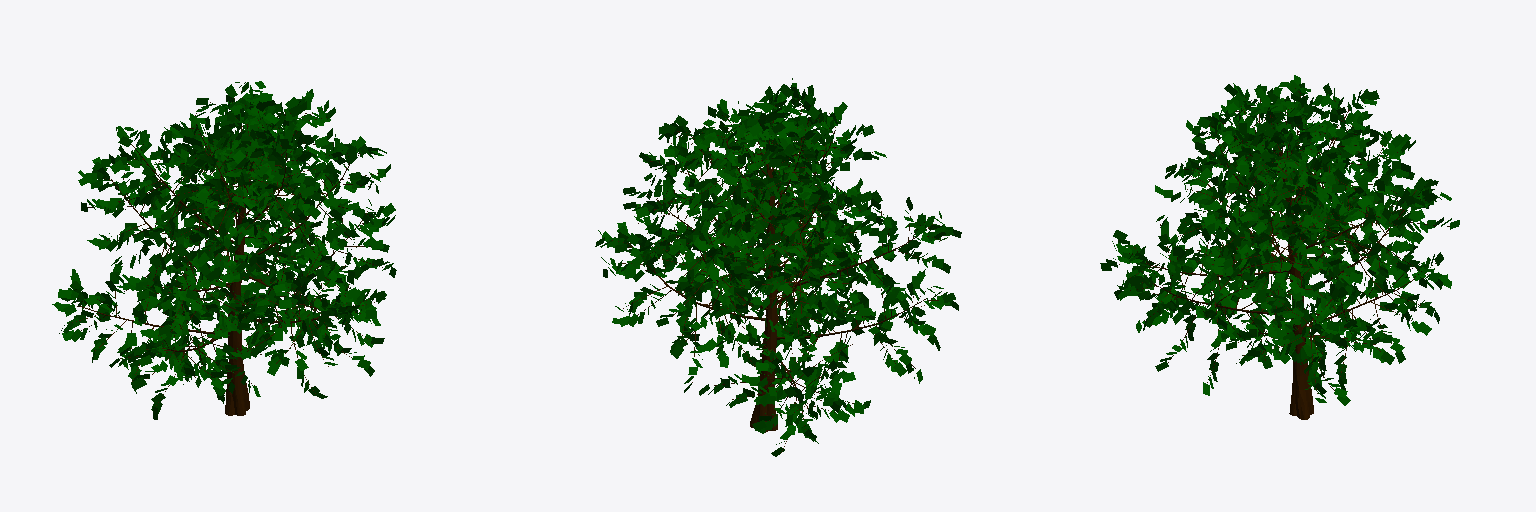
The model's file is tree.obj.
The picture shows the model from 3 angles: view 1: azimuth 30°, elevation 25°; view 2: azimuth 150°, elevation 25°; view 3: azimuth 270°, elevation 25°; orthographic projection.
Parts seen in each view (by area): view 1: Foliage02; view 2: Foliage02; view 3: Foliage02.
Boxes of the visible parts, <box> form: Foliage02: <box>52,81,396,419</box>; Foliage02: <box>595,78,961,456</box>; Foliage02: <box>1100,75,1459,419</box>.
Bounding box in the file's own units: 35.92 × 35.86 × 36.2.